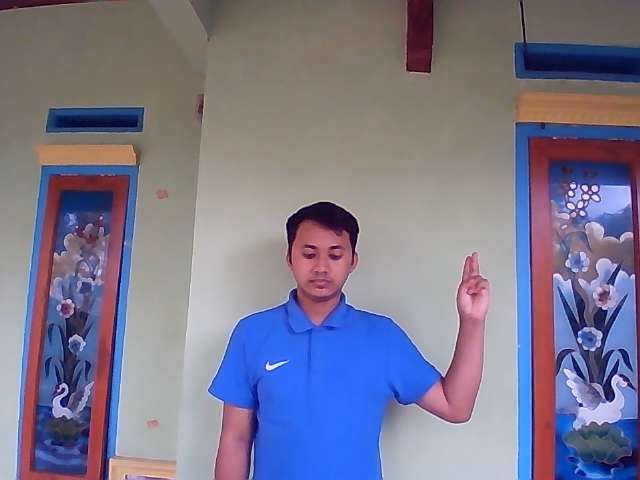U: (456, 249, 490, 319)
